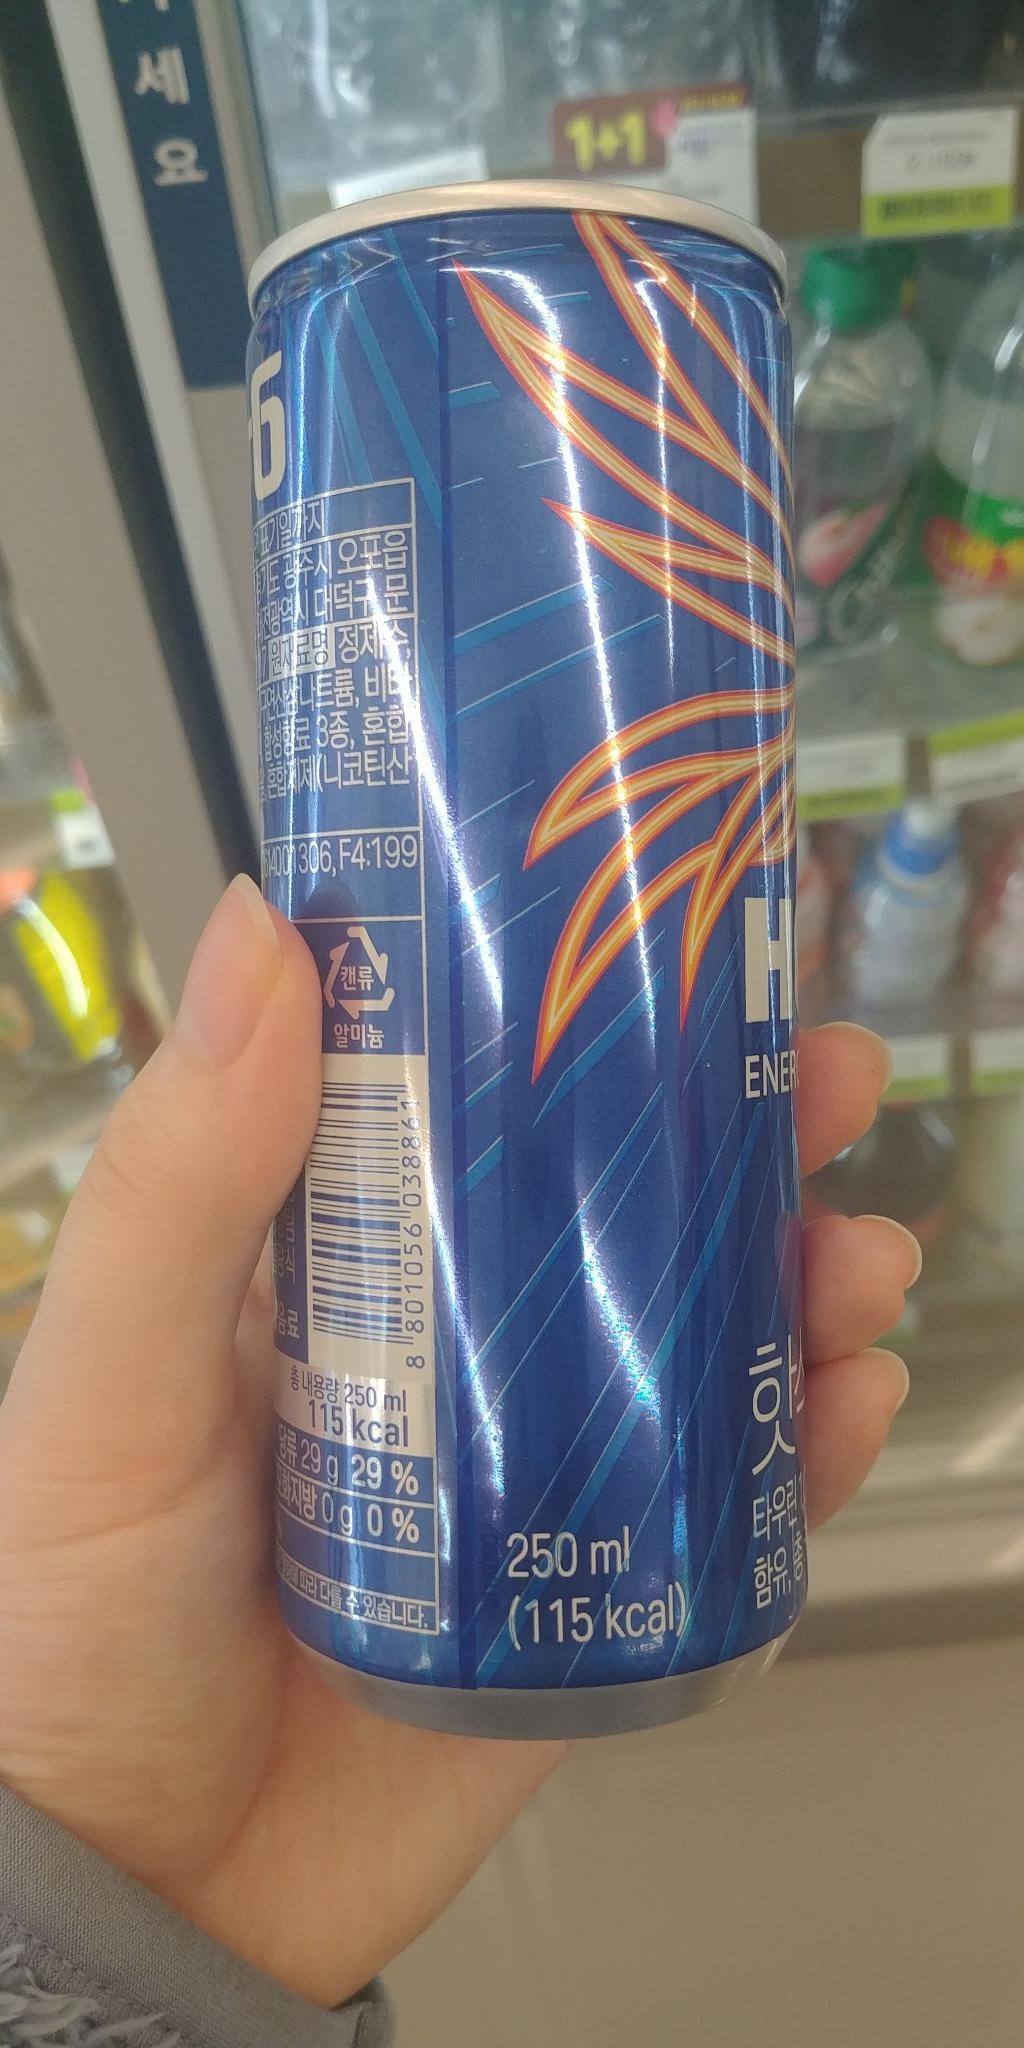hotsix_org: (232, 174, 846, 1765)
